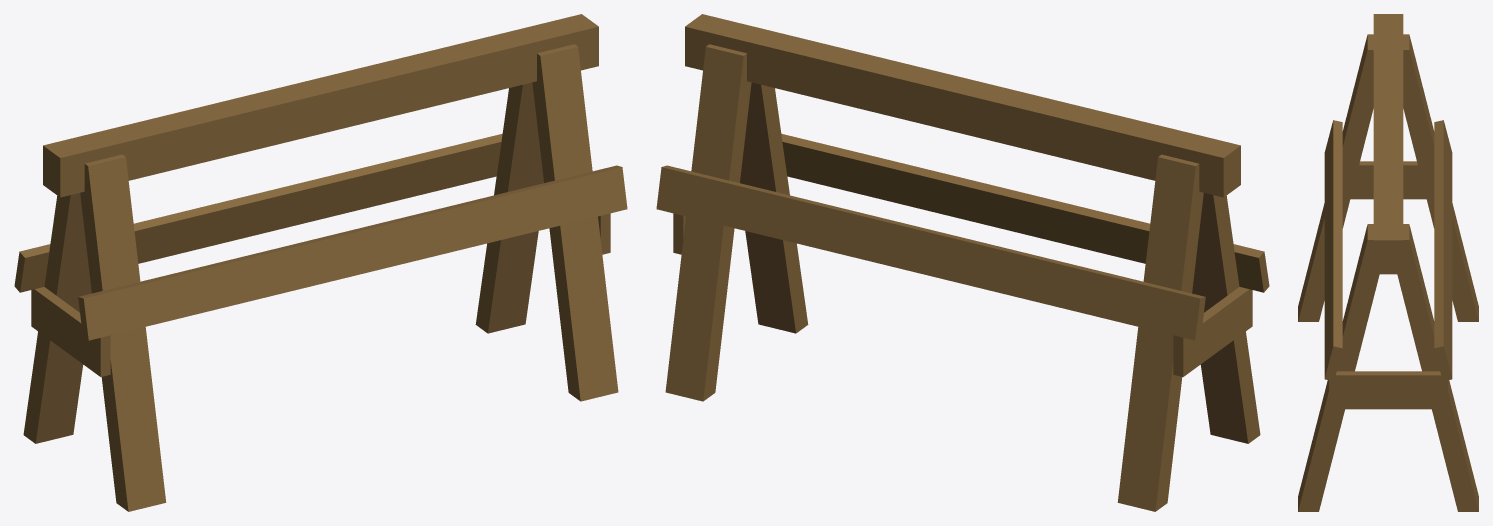
File: Barrier.fbx
3 renders of one model, left to right at view 1: azimuth 30°, elevation 25°; view 2: azimuth 150°, elevation 25°; view 3: azimuth 270°, elevation 25°, orthographic. The views are drawn at different scales.
Visible parts, largest first — view 1: Barrier; view 2: Barrier; view 3: Barrier.
Boxes of the visible parts, box(x1,y1,x2,y2) form: Barrier: box(14, 14, 627, 511); Barrier: box(656, 14, 1269, 511); Barrier: box(1298, 14, 1478, 511).
Bounding box in the file's own units: 160 × 93.1 × 54.09.
